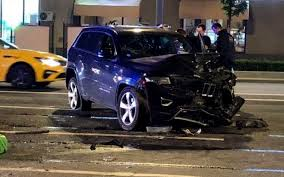car: (62, 26, 234, 131)
